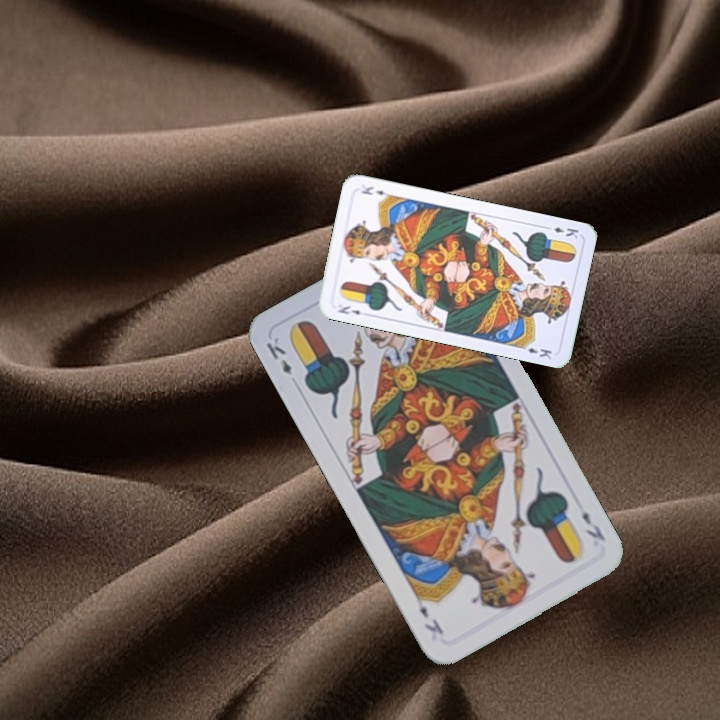EK: (261, 333, 295, 378), (578, 507, 608, 544), (541, 222, 581, 241), (334, 302, 363, 317)
